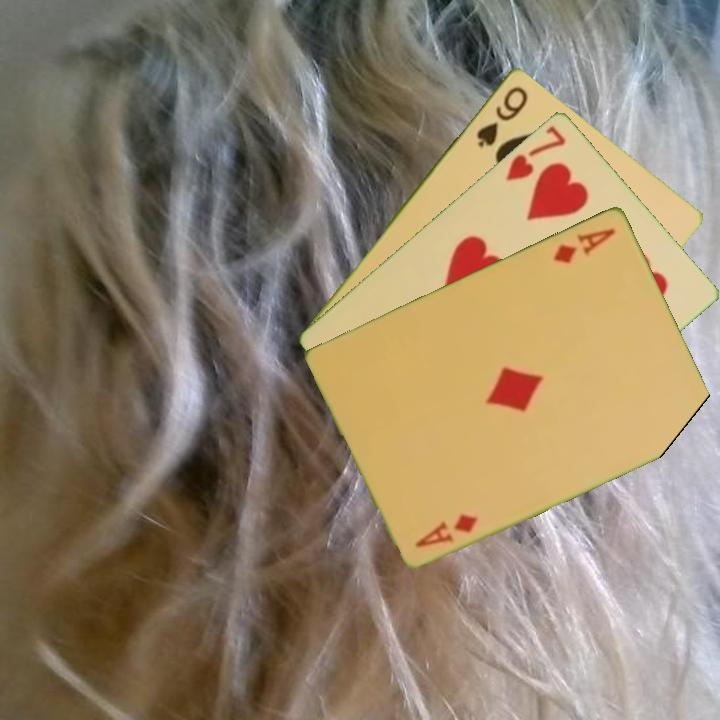7h: (502, 121, 569, 184)
9s: (472, 82, 531, 150)
Ad: (550, 224, 619, 266), (411, 509, 481, 550)
